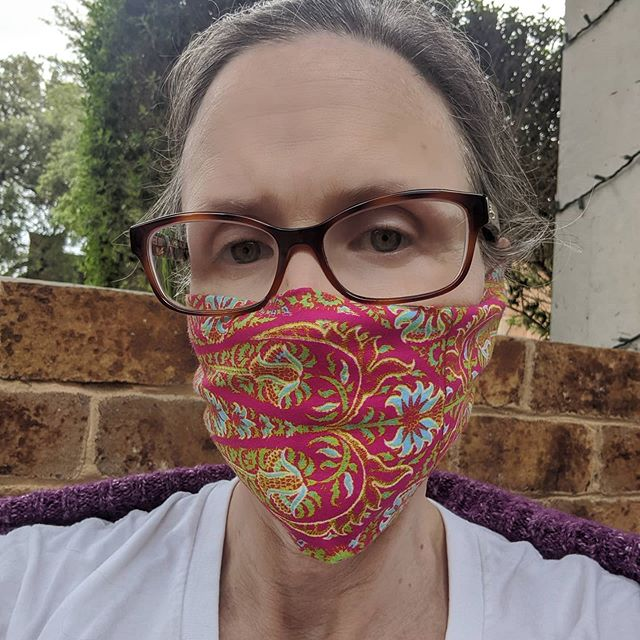homemade: (172, 293, 502, 558)
